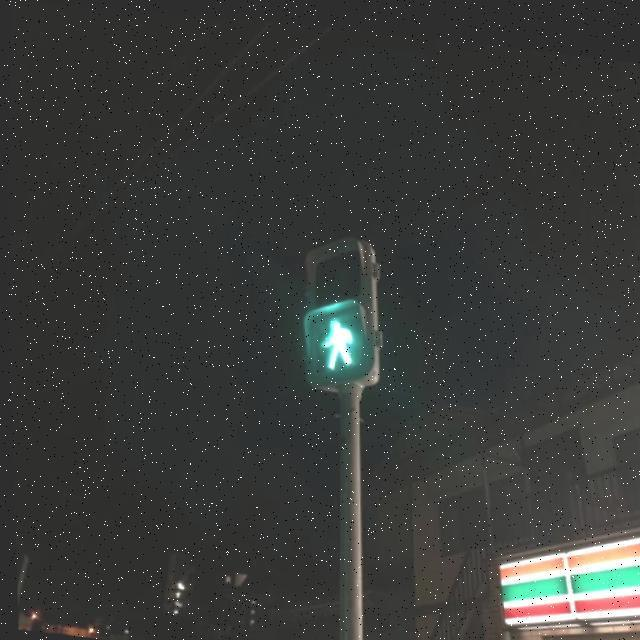greenlight: (303, 245, 376, 393)
